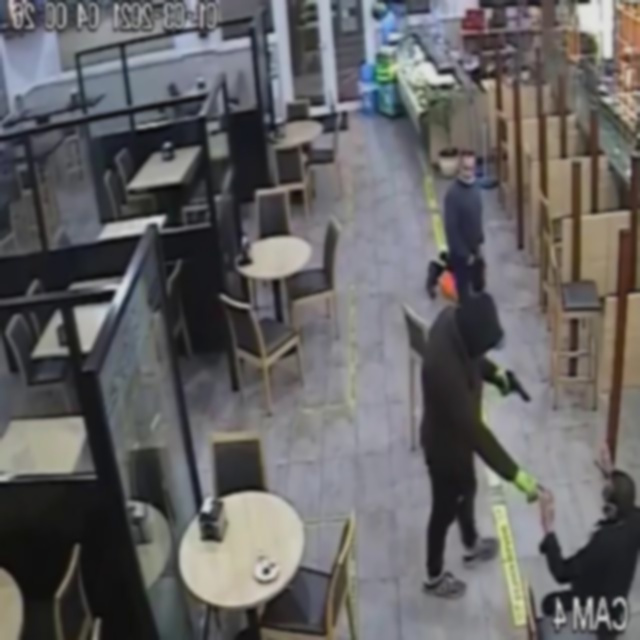gun: (491, 358, 540, 414)
